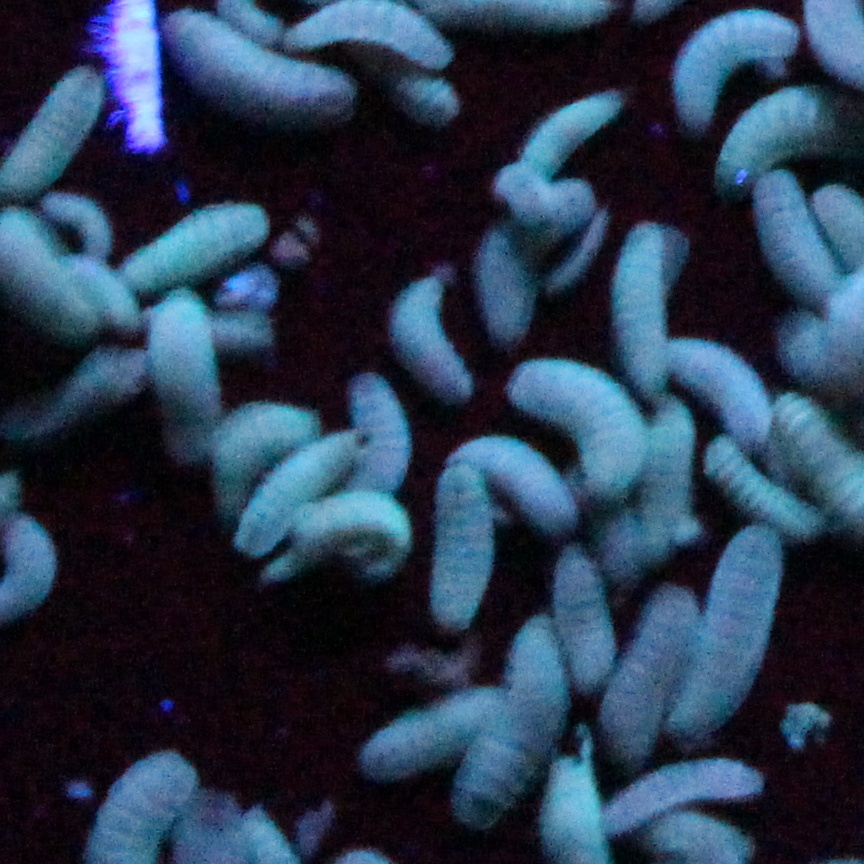larve: (665, 518, 781, 744), (157, 0, 353, 126), (494, 347, 650, 504), (459, 598, 562, 825), (232, 423, 378, 561), (741, 163, 849, 323), (355, 687, 511, 788), (138, 288, 224, 464), (603, 221, 684, 407), (124, 197, 278, 293), (601, 744, 771, 829), (386, 266, 484, 413), (658, 323, 772, 440), (509, 86, 629, 188), (423, 465, 496, 631), (609, 589, 694, 728), (548, 542, 617, 688)
